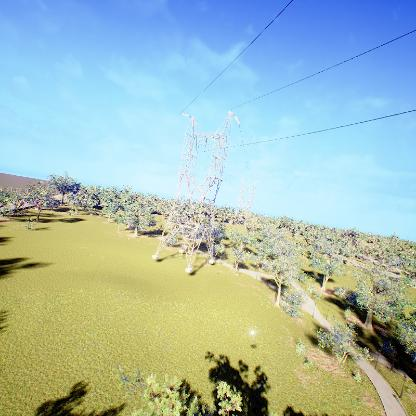tower: (153, 103, 242, 273)
